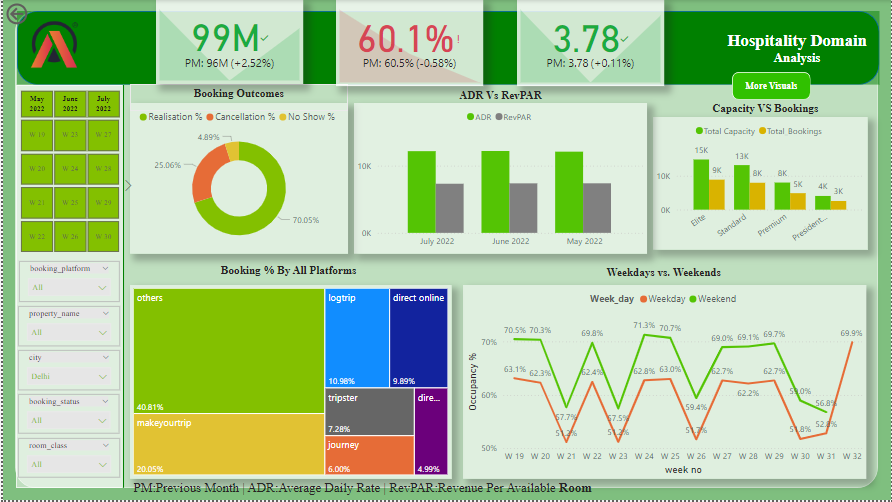

The page's visual inventory and layout, read from the dashboard file:
{"tool":"powerbi","page":{"name":"D2","canvas":[1280,720],"ordinal":2},"visuals":[{"type":"shape","box":[17.3,15.8,1242.7,686.9],"z":0},{"type":"shape","box":[20,16.4,1241.8,106.4],"z":1000},{"type":"image","box":[35,23.3,80,80],"z":2000},{"type":"shape","box":[20,122.5,306.2,580],"z":3000},{"type":"shape","box":[19.3,122.9,153.6,580],"z":4000},{"type":"actionButton","box":[0,0,100,40],"z":5000},{"type":"slicer","fields":{"Values":["dim_date.Month year"]},"box":[0,123.2,191.6,50],"z":6000},{"type":"slicer","fields":{"Values":["fact_bookings.booking_platform"]},"box":[22.9,375.7,145,58.6],"z":7000},{"type":"slicer","fields":{"Values":["dim_hotels.property_name"]},"box":[22.1,440,147.1,57.9],"z":8000},{"type":"slicer","fields":{"Values":["dim_hotels.city"]},"box":[22.1,504.3,147.1,57.9],"z":9000},{"type":"slicer","fields":{"Values":["fact_bookings.booking_status"]},"box":[22.1,567.9,146.4,57.1],"z":10000},{"type":"slicer","fields":{"Values":["dim_rooms.room_class"]},"box":[22.1,630.7,147.1,57.1],"z":11000},{"type":"textbox","box":[1026.7,40,233.3,71.7],"z":12000},{"type":"donutChart","fields":{"Y":["Key Measures.Realisation %","Key Measures.Cancellation %","Key Measures.No Show %"]},"box":[182.9,148.3,313.9,217.4],"z":13000},{"type":"textbox","box":[182.7,120.9,313.6,39.1],"z":14000},{"type":"clusteredColumnChart","fields":{"Y":["Key Measures.Total Capacity","Key Measures.Total_Bookings"],"Category":["dim_rooms.room_class"]},"box":[935.7,168.6,308.6,191.4],"z":15000},{"type":"textbox","box":[955.7,142.9,282.9,40],"z":16000},{"type":"treemap","fields":{"Values":["Key Measures.Booking % By Platform"],"Group":["fact_bookings.booking_platform"]},"box":[182.9,410,462.9,278.6],"z":17000},{"type":"textbox","box":[182.9,380,457.1,50],"z":18000},{"type":"textbox","box":[505,124,422,39],"z":19000},{"type":"shape","box":[1050,103.3,113.3,40],"z":20000},{"type":"lineChart","fields":{"Category":["dim_date.week no"],"Series":["dim_date.Week_day"],"Y":["Key Measures.Occupancy %"]},"box":[662.9,410,581.4,278.6],"z":21000},{"type":"textbox","box":[663.3,378.3,575,35],"z":22000},{"type":"slicer","fields":{"Values":["dim_date.week no"]},"box":[0.7,165.7,191.4,204.3],"z":23000},{"type":"clusteredColumnChart","fields":{"Y":["Key Measures.ADR","Key Measures.RevPAR"],"Category":["dim_date.Month year"]},"box":[505,148,422,217],"z":28000},{"type":"kpi","fields":{"Indicator":["Key Measures.Revenue"],"Goal":["Key Measures.Revenue LM"],"TrendLine":["dim_date.date.Variation.Date Hierarchy.Month"]},"box":[220,0,211.8,120.9],"z":29000},{"type":"kpi","fields":{"Indicator":["Key Measures.Occupancy %"],"Goal":["Key Measures.Occupancy % PM"],"TrendLine":["dim_date.date.Variation.Date Hierarchy.Month"]},"box":[479.1,0,211.8,123.6],"z":30000},{"type":"kpi","fields":{"Indicator":["Key Measures.Average rating"],"Goal":["Key Measures.Average Rating PM"],"TrendLine":["dim_date.date.Variation.Date Hierarchy.Month"]},"box":[739.8,0,211.5,123.8],"z":31000},{"type":"card","fields":{"Values":["Key Measures.Error Msg"]},"box":[221.8,95.5,210.9,28.2],"z":32000},{"type":"card","fields":{"Values":["Key Measures.Error Msg"]},"box":[479,96.7,211.7,27.5],"z":33000},{"type":"card","fields":{"Values":["Key Measures.Error Msg"]},"box":[739.5,97.5,211.7,27.5],"z":34000},{"type":"textbox","box":[183.3,686.7,690,33.3],"z":35000}]}

Visuals, with their boxes in screenshot pixels (x1, y1, x2, y2), scaled from the page's 1280x720 canvas onto the 892x502 screenshot:
shape: 12:11:878:490
shape: 14:11:879:86
image: 24:16:80:72
shape: 14:85:227:490
shape: 13:86:120:490
actionButton: 0:0:70:28
slicer - dim_date.Month year: 0:86:134:121
slicer - fact_bookings.booking_platform: 16:262:117:303
slicer - dim_hotels.property_name: 15:307:118:347
slicer - dim_hotels.city: 15:352:118:392
slicer - fact_bookings.booking_status: 15:396:117:436
slicer - dim_rooms.room_class: 15:440:118:480
textbox: 715:28:878:78
donutChart - Key Measures.Realisation % x Key Measures.Cancellation %: 127:103:346:255
textbox: 127:84:346:112
clusteredColumnChart - Key Measures.Total Capacity x Key Measures.Total_Bookings: 652:118:867:251
textbox: 666:100:863:128
treemap - Key Measures.Booking % By Platform x fact_bookings.booking_platform: 127:286:450:480
textbox: 127:265:446:300
textbox: 352:86:646:114
shape: 732:72:811:100
lineChart - dim_date.week no x dim_date.Week_day: 462:286:867:480
textbox: 462:264:863:288
slicer - dim_date.week no: 0:116:134:258
clusteredColumnChart - Key Measures.ADR x Key Measures.RevPAR: 352:103:646:254
kpi - Key Measures.Revenue x Key Measures.Revenue LM: 153:0:301:84
kpi - Key Measures.Occupancy % x Key Measures.Occupancy % PM: 334:0:481:86
kpi - Key Measures.Average rating x Key Measures.Average Rating PM: 516:0:663:86
card - Key Measures.Error Msg: 155:67:302:86
card - Key Measures.Error Msg: 334:67:481:87
card - Key Measures.Error Msg: 515:68:663:87
textbox: 128:479:609:501
